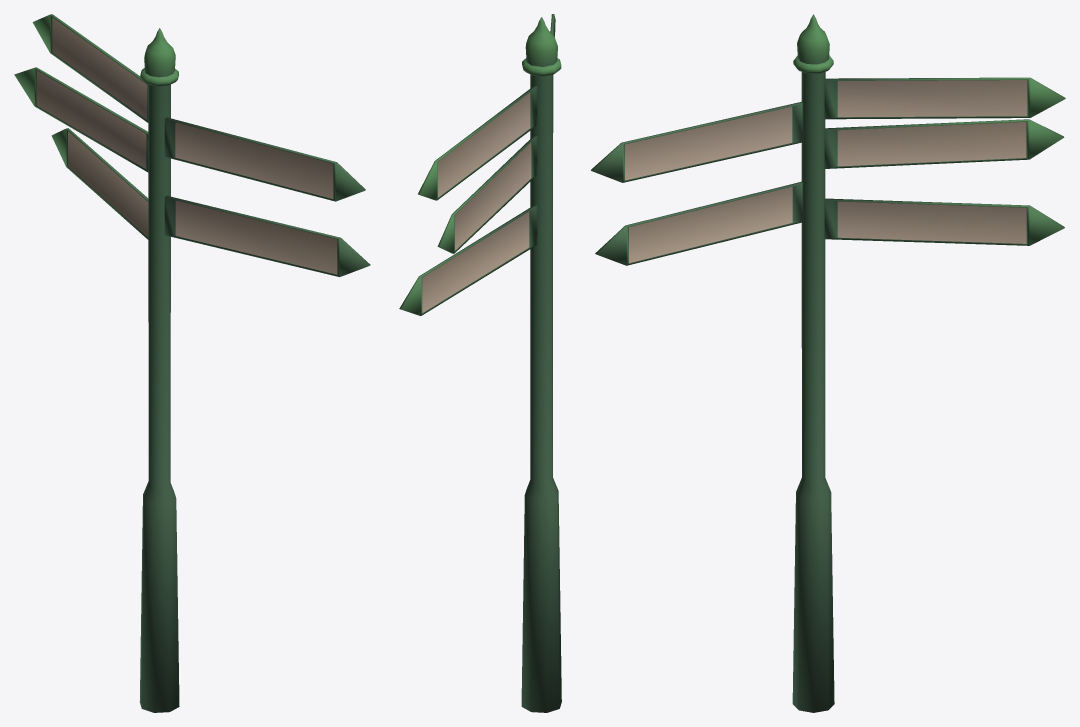
The picture shows the model from 3 angles, left to right: view 1: azimuth 30°, elevation 25°; view 2: azimuth 150°, elevation 25°; view 3: azimuth 270°, elevation 25°; orthographic projection.
Visible parts, largest first — view 1: alt290; view 2: alt290; view 3: alt290.
Part boxes in pixels (x1,y1,x2,y2): alt290: (14, 14, 370, 712); alt290: (399, 14, 561, 712); alt290: (591, 14, 1065, 712).
Bounding box in the file's own units: 0.0975 × 0.5 × 0.309.
